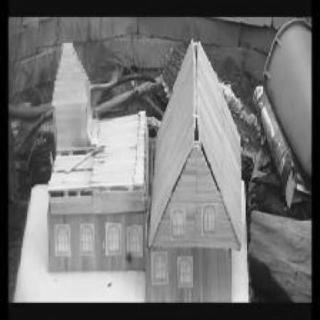Fire: (82, 111, 102, 148)
